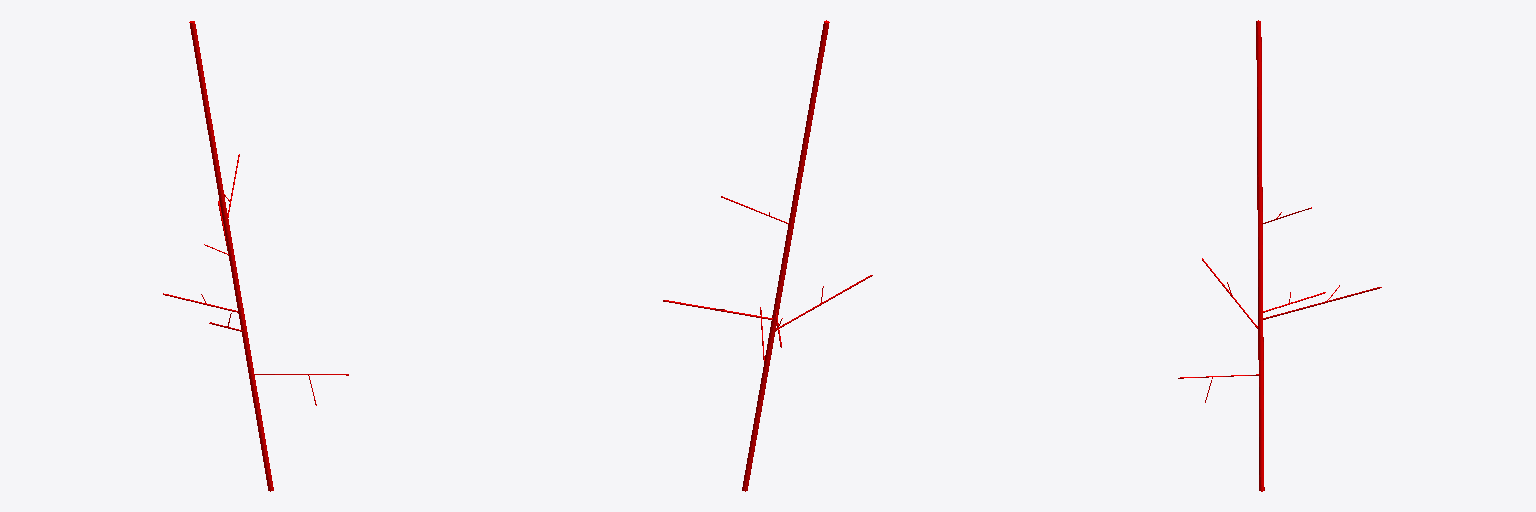
The robot description file, URDF, robot "tree_138.urdf":
<?xml version='1.0' encoding='UTF-8'?>
<robot name="tree_138.urdf">
  <link name="branch_0">
    <inertial>
      <origin xyz="0.0 0.0 0.0" rpy="0.0 -0.0 0.0"/>
      <mass value="0.1"/>
      <inertia ixx="0.001" ixy="0.0" ixz="0.0" iyy="0.001" iyz="0.0" izz="0.001"/>
    </inertial>
    <visual name="branch_0_visual">
      <geometry>
        <cylinder radius="0.05499282273043163" length="10.391385603725368"/>
      </geometry>
      <material name="semantic_material"/>
      <origin xyz="-0.8833226335473485 -0.03342942798780904 5.1199460241036805" rpy="8.667412644994752e-19 0.17096388789819497 -3.103765612097626"/>
    </visual>
    <collision name="branch_0_collision">
      <geometry>
        <cylinder radius="0.05499282273043163" length="10.391385603725368"/>
      </geometry>
      <origin xyz="-0.8833226335473485 -0.03342942798780904 5.1199460241036805" rpy="8.667412644994752e-19 0.17096388789819497 -3.103765612097626"/>
    </collision>
  </link>
  <link name="branch_1">
    <inertial>
      <origin xyz="0.0 0.0 0.0" rpy="0.0 -0.0 0.0"/>
      <mass value="0.1"/>
      <inertia ixx="0.001" ixy="0.0" ixz="0.0" iyy="0.001" iyz="0.0" izz="0.001"/>
    </inertial>
    <visual name="branch_1_visual">
      <geometry>
        <cylinder radius="0.017140450733868207" length="2.1953815430821737"/>
      </geometry>
      <material name="semantic_material"/>
      <origin xyz="0.0 0.0 0.0" rpy="0.0 -0.0 0.0"/>
    </visual>
    <collision name="branch_1_collision">
      <geometry>
        <cylinder radius="0.017140450733868207" length="2.1953815430821737"/>
      </geometry>
      <origin xyz="0.0 0.0 0.0" rpy="0.0 -0.0 0.0"/>
    </collision>
  </link>
  <link name="branch_2">
    <inertial>
      <origin xyz="0.0 0.0 0.0" rpy="0.0 -0.0 0.0"/>
      <mass value="0.1"/>
      <inertia ixx="0.001" ixy="0.0" ixz="0.0" iyy="0.001" iyz="0.0" izz="0.001"/>
    </inertial>
    <visual name="branch_2_visual">
      <geometry>
        <cylinder radius="0.01" length="0.35401896490916057"/>
      </geometry>
      <material name="semantic_material"/>
      <origin xyz="0.0 0.0 0.0" rpy="0.0 -0.0 0.0"/>
    </visual>
    <collision name="branch_2_collision">
      <geometry>
        <cylinder radius="0.01" length="0.35401896490916057"/>
      </geometry>
      <origin xyz="0.0 0.0 0.0" rpy="0.0 -0.0 0.0"/>
    </collision>
  </link>
  <link name="branch_3">
    <inertial>
      <origin xyz="0.0 0.0 0.0" rpy="0.0 -0.0 0.0"/>
      <mass value="0.1"/>
      <inertia ixx="0.001" ixy="0.0" ixz="0.0" iyy="0.001" iyz="0.0" izz="0.001"/>
    </inertial>
    <visual name="branch_3_visual">
      <geometry>
        <cylinder radius="0.012177603096661336" length="2.1307126787499913"/>
      </geometry>
      <material name="semantic_material"/>
      <origin xyz="0.0 0.0 0.0" rpy="0.0 -0.0 0.0"/>
    </visual>
    <collision name="branch_3_collision">
      <geometry>
        <cylinder radius="0.012177603096661336" length="2.1307126787499913"/>
      </geometry>
      <origin xyz="0.0 0.0 0.0" rpy="0.0 -0.0 0.0"/>
    </collision>
  </link>
  <link name="branch_4">
    <inertial>
      <origin xyz="0.0 0.0 0.0" rpy="0.0 -0.0 0.0"/>
      <mass value="0.1"/>
      <inertia ixx="0.001" ixy="0.0" ixz="0.0" iyy="0.001" iyz="0.0" izz="0.001"/>
    </inertial>
    <visual name="branch_4_visual">
      <geometry>
        <cylinder radius="0.01" length="0.6327734396811606"/>
      </geometry>
      <material name="semantic_material"/>
      <origin xyz="0.0 0.0 0.0" rpy="0.0 -0.0 0.0"/>
    </visual>
    <collision name="branch_4_collision">
      <geometry>
        <cylinder radius="0.01" length="0.6327734396811606"/>
      </geometry>
      <origin xyz="0.0 0.0 0.0" rpy="0.0 -0.0 0.0"/>
    </collision>
  </link>
  <link name="branch_5">
    <inertial>
      <origin xyz="0.0 0.0 0.0" rpy="0.0 -0.0 0.0"/>
      <mass value="0.1"/>
      <inertia ixx="0.001" ixy="0.0" ixz="0.0" iyy="0.001" iyz="0.0" izz="0.001"/>
    </inertial>
    <visual name="branch_5_visual">
      <geometry>
        <cylinder radius="0.019173956239535894" length="2.999633704357458"/>
      </geometry>
      <material name="semantic_material"/>
      <origin xyz="0.0 0.0 0.0" rpy="0.0 -0.0 0.0"/>
    </visual>
    <collision name="branch_5_collision">
      <geometry>
        <cylinder radius="0.019173956239535894" length="2.999633704357458"/>
      </geometry>
      <origin xyz="0.0 0.0 0.0" rpy="0.0 -0.0 0.0"/>
    </collision>
  </link>
  <link name="branch_6">
    <inertial>
      <origin xyz="0.0 0.0 0.0" rpy="0.0 -0.0 0.0"/>
      <mass value="0.1"/>
      <inertia ixx="0.001" ixy="0.0" ixz="0.0" iyy="0.001" iyz="0.0" izz="0.001"/>
    </inertial>
    <visual name="branch_6_visual">
      <geometry>
        <cylinder radius="0.01" length="0.5291518138849113"/>
      </geometry>
      <material name="semantic_material"/>
      <origin xyz="0.0 0.0 0.0" rpy="0.0 -0.0 0.0"/>
    </visual>
    <collision name="branch_6_collision">
      <geometry>
        <cylinder radius="0.01" length="0.5291518138849113"/>
      </geometry>
      <origin xyz="0.0 0.0 0.0" rpy="0.0 -0.0 0.0"/>
    </collision>
  </link>
  <link name="branch_7">
    <inertial>
      <origin xyz="0.0 0.0 0.0" rpy="0.0 -0.0 0.0"/>
      <mass value="0.1"/>
      <inertia ixx="0.001" ixy="0.0" ixz="0.0" iyy="0.001" iyz="0.0" izz="0.001"/>
    </inertial>
    <visual name="branch_7_visual">
      <geometry>
        <cylinder radius="0.0166107984587403" length="1.656427266967372"/>
      </geometry>
      <material name="semantic_material"/>
      <origin xyz="0.0 0.0 0.0" rpy="0.0 -0.0 0.0"/>
    </visual>
    <collision name="branch_7_collision">
      <geometry>
        <cylinder radius="0.0166107984587403" length="1.656427266967372"/>
      </geometry>
      <origin xyz="0.0 0.0 0.0" rpy="0.0 -0.0 0.0"/>
    </collision>
  </link>
  <link name="branch_8">
    <inertial>
      <origin xyz="0.0 0.0 0.0" rpy="0.0 -0.0 0.0"/>
      <mass value="0.1"/>
      <inertia ixx="0.001" ixy="0.0" ixz="0.0" iyy="0.001" iyz="0.0" izz="0.001"/>
    </inertial>
    <visual name="branch_8_visual">
      <geometry>
        <cylinder radius="0.01" length="0.253943926499093"/>
      </geometry>
      <material name="semantic_material"/>
      <origin xyz="0.0 0.0 0.0" rpy="0.0 -0.0 0.0"/>
    </visual>
    <collision name="branch_8_collision">
      <geometry>
        <cylinder radius="0.01" length="0.253943926499093"/>
      </geometry>
      <origin xyz="0.0 0.0 0.0" rpy="0.0 -0.0 0.0"/>
    </collision>
  </link>
  <link name="branch_9">
    <inertial>
      <origin xyz="0.0 0.0 0.0" rpy="0.0 -0.0 0.0"/>
      <mass value="0.1"/>
      <inertia ixx="0.001" ixy="0.0" ixz="0.0" iyy="0.001" iyz="0.0" izz="0.001"/>
    </inertial>
    <visual name="branch_9_visual">
      <geometry>
        <cylinder radius="0.01314405815333805" length="1.6417777312965771"/>
      </geometry>
      <material name="semantic_material"/>
      <origin xyz="0.0 0.0 0.0" rpy="0.0 -0.0 0.0"/>
    </visual>
    <collision name="branch_9_collision">
      <geometry>
        <cylinder radius="0.01314405815333805" length="1.6417777312965771"/>
      </geometry>
      <origin xyz="0.0 0.0 0.0" rpy="0.0 -0.0 0.0"/>
    </collision>
  </link>
  <link name="branch_10">
    <inertial>
      <origin xyz="0.0 0.0 0.0" rpy="0.0 -0.0 0.0"/>
      <mass value="0.1"/>
      <inertia ixx="0.001" ixy="0.0" ixz="0.0" iyy="0.001" iyz="0.0" izz="0.001"/>
    </inertial>
    <visual name="branch_10_visual">
      <geometry>
        <cylinder radius="0.01" length="0.19218269445161976"/>
      </geometry>
      <material name="semantic_material"/>
      <origin xyz="0.0 0.0 0.0" rpy="0.0 -0.0 0.0"/>
    </visual>
    <collision name="branch_10_collision">
      <geometry>
        <cylinder radius="0.01" length="0.19218269445161976"/>
      </geometry>
      <origin xyz="0.0 0.0 0.0" rpy="0.0 -0.0 0.0"/>
    </collision>
  </link>
  <joint name="joint_0_1" type="fixed">
    <parent link="branch_0"/>
    <child link="branch_1"/>
    <axis xyz="1. 0. 0."/>
    <origin xyz="-1.3358785427797677 -0.6501052107462868 3.9792372612412668" rpy="0.23821030379881847 1.0661115172280202 -2.1665759207668196"/>
  </joint>
  <joint name="joint_0_3" type="fixed">
    <parent link="branch_0"/>
    <child link="branch_3"/>
    <axis xyz="1. 0. 0."/>
    <origin xyz="0.12100188410915123 -0.8971539813570241 2.7499791553277815" rpy="0.6098232150543982 1.3149027381092513 -0.38112553025333706"/>
  </joint>
  <joint name="joint_0_5" type="fixed">
    <parent link="branch_0"/>
    <child link="branch_5"/>
    <axis xyz="1. 0. 0."/>
    <origin xyz="-0.1634112134668057 1.2605776094357086 4.3349665898446625" rpy="-0.3607080210582895 1.1236148665449286 0.8172060191961245"/>
  </joint>
  <joint name="joint_0_7" type="fixed">
    <parent link="branch_0"/>
    <child link="branch_7"/>
    <axis xyz="1. 0. 0."/>
    <origin xyz="-1.1279093973967405 0.6639101880811172 3.9030644884638375" rpy="-1.3775740768135323 1.42142428263881 0.778241347239032"/>
  </joint>
  <joint name="joint_0_9" type="fixed">
    <parent link="branch_0"/>
    <child link="branch_9"/>
    <axis xyz="1. 0. 0."/>
    <origin xyz="-0.545329794892922 0.5080305695349994 6.212200529123575" rpy="-0.23403853308966857 1.0314238090117347 0.6042284367599726"/>
  </joint>
  <joint name="joint_1_2" type="fixed">
    <parent link="branch_0"/>
    <child link="branch_2"/>
    <axis xyz="1. 0. 0."/>
    <origin xyz="-1.3090425101091137 -0.6853003800887021 4.134933473704157" rpy="0.2774956389580768 -0.11258256414951079 0.5212646454373804"/>
  </joint>
  <joint name="joint_3_4" type="fixed">
    <parent link="branch_0"/>
    <child link="branch_4"/>
    <axis xyz="1. 0. 0."/>
    <origin xyz="0.2525782080149101 -1.1338122640119999 2.4853162138012923" rpy="-3.0918268414916676 0.28910215678210827 2.139089120306309"/>
  </joint>
  <joint name="joint_5_6" type="fixed">
    <parent link="branch_0"/>
    <child link="branch_6"/>
    <axis xyz="1. 0. 0."/>
    <origin xyz="-0.3185280961632717 1.5219554457806495 4.491552218704403" rpy="1.1653208743415446 0.28891747327117967 -2.3091141006185456"/>
  </joint>
  <joint name="joint_7_8" type="fixed">
    <parent link="branch_0"/>
    <child link="branch_8"/>
    <axis xyz="1. 0. 0."/>
    <origin xyz="-1.1254786564273613 0.6000474051119771 4.016656959884278" rpy="0.29498888396364314 -0.2945339884623829 -1.0799376597309158"/>
  </joint>
  <joint name="joint_9_10" type="fixed">
    <parent link="branch_0"/>
    <child link="branch_10"/>
    <axis xyz="1. 0. 0."/>
    <origin xyz="-0.7480364483435145 0.364523445889977 6.130796340290733" rpy="0.7616136181056404 0.13004038189276002 -2.7151413820891634"/>
  </joint>
  <material name="semantic_material">
    <color rgba="1. 0. 0. 1."/>
  </material>
</robot>

--- Render facts (derived) ---
3 views of the same robot in one strip: view 1: azimuth 30°, elevation 25°; view 2: azimuth 150°, elevation 25°; view 3: azimuth 270°, elevation 25° (orthographic).
Model tree_138.urdf with 11 links and 10 joints (10 fixed), rooted at branch_0, posed every joint at zero.
Links seen in each view (by area): view 1: branch_0; view 2: branch_0; view 3: branch_0.
Link boxes in pixels (left/top/right/bottom): branch_0: left=189, top=21, right=273, bottom=491; branch_0: left=742, top=20, right=829, bottom=491; branch_0: left=1256, top=20, right=1264, bottom=491.
Size in the robot's own frame: 2.78 by 4.34 by 10.26 metres.
Geometry: primitives only (box / cylinder / sphere), no mesh files.
